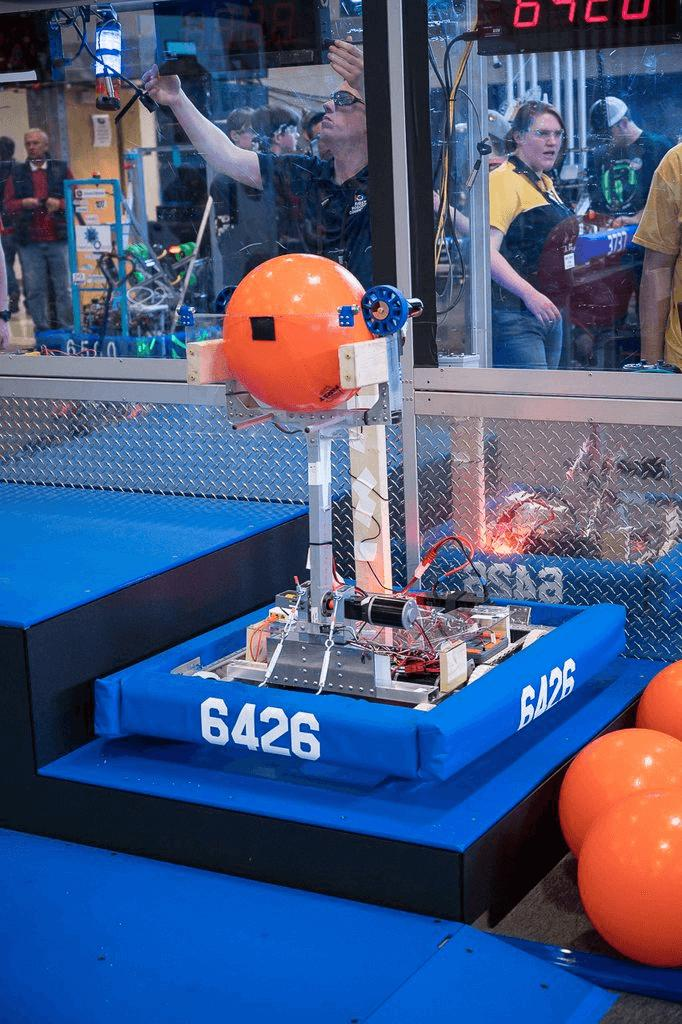robot: (91, 280, 633, 789)
